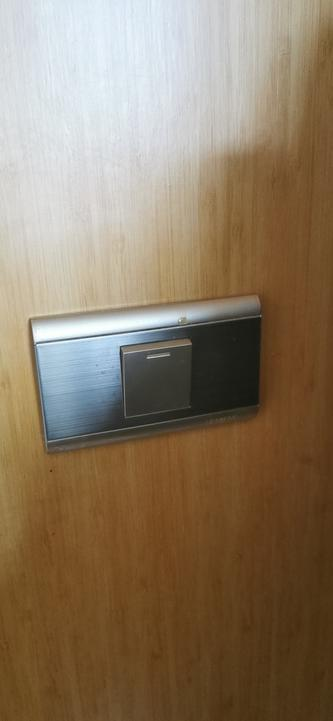switch: (125, 335, 195, 418)
